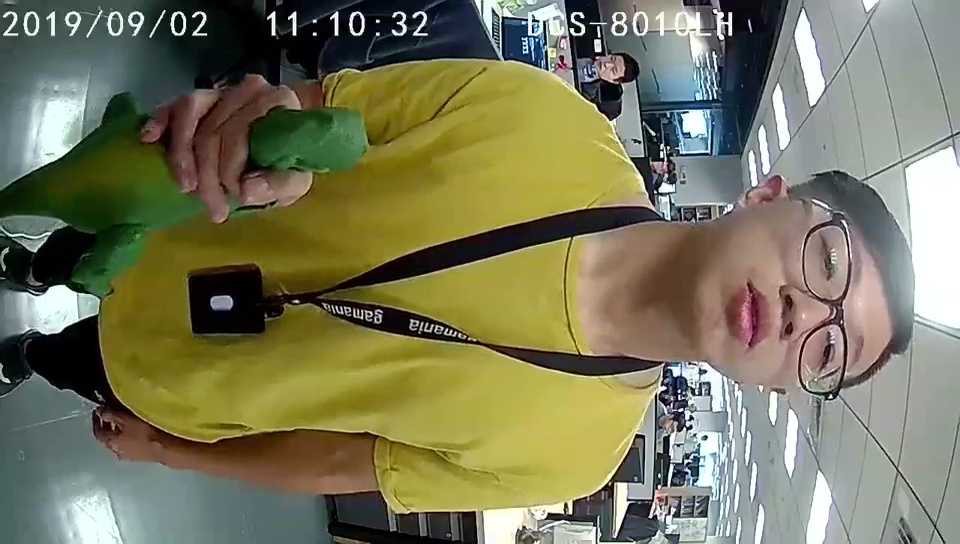rex: (75, 106, 369, 298)
